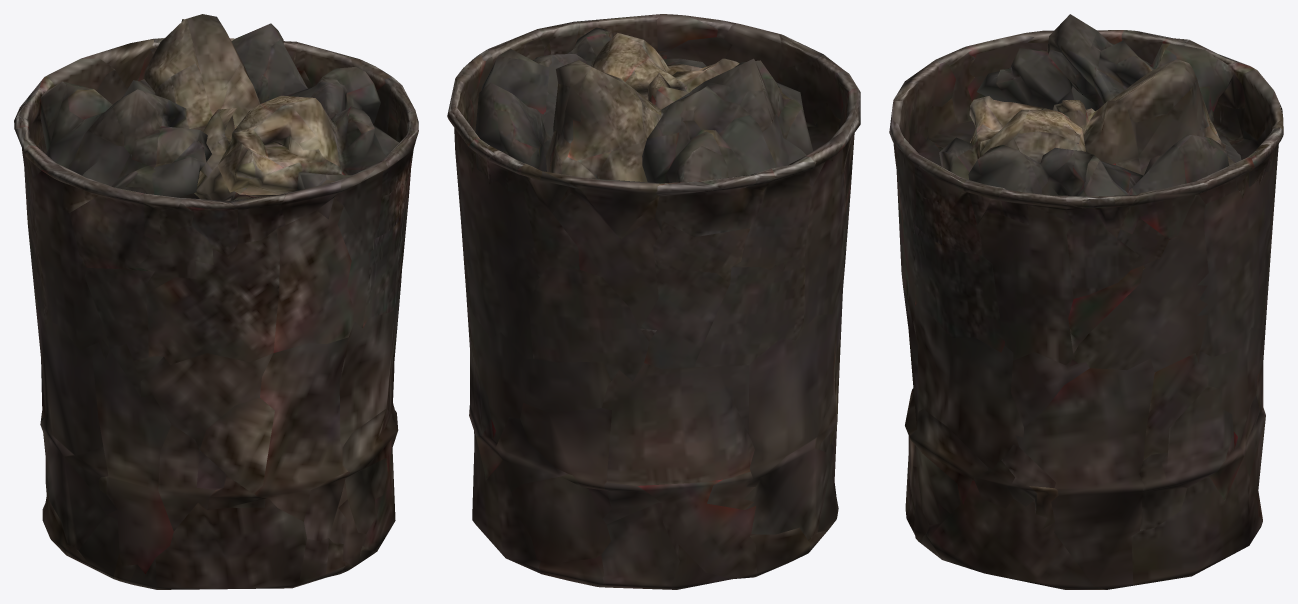
Rendered from trash1.glb.
3 views of the same model, side by side, from view 1: azimuth 30°, elevation 25°; view 2: azimuth 150°, elevation 25°; view 3: azimuth 270°, elevation 25° (orthographic). The views are drawn at different scales.
Bounding box in the file's own units: 85.91 × 108 × 82.92.
1 material, 1 textured.
